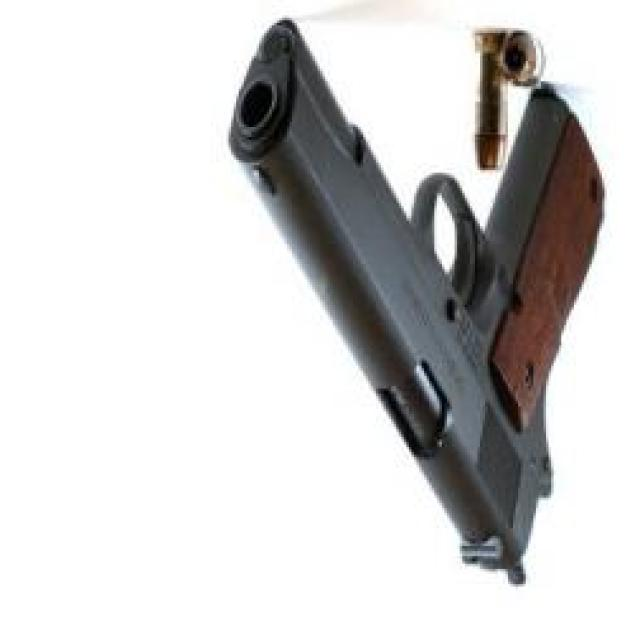pistol: (228, 18, 604, 584)
